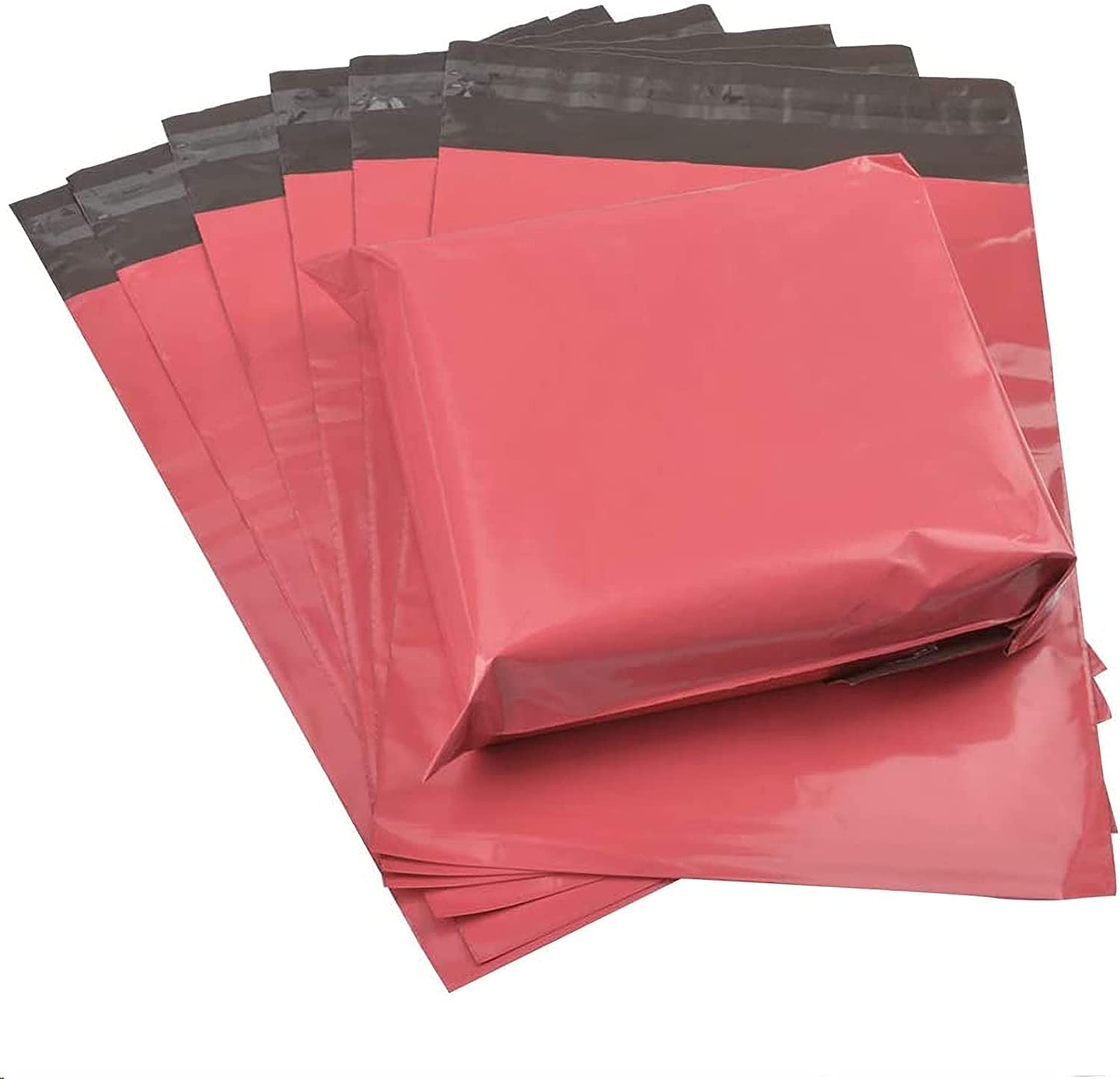Parcel: (12, 5, 1114, 990)
